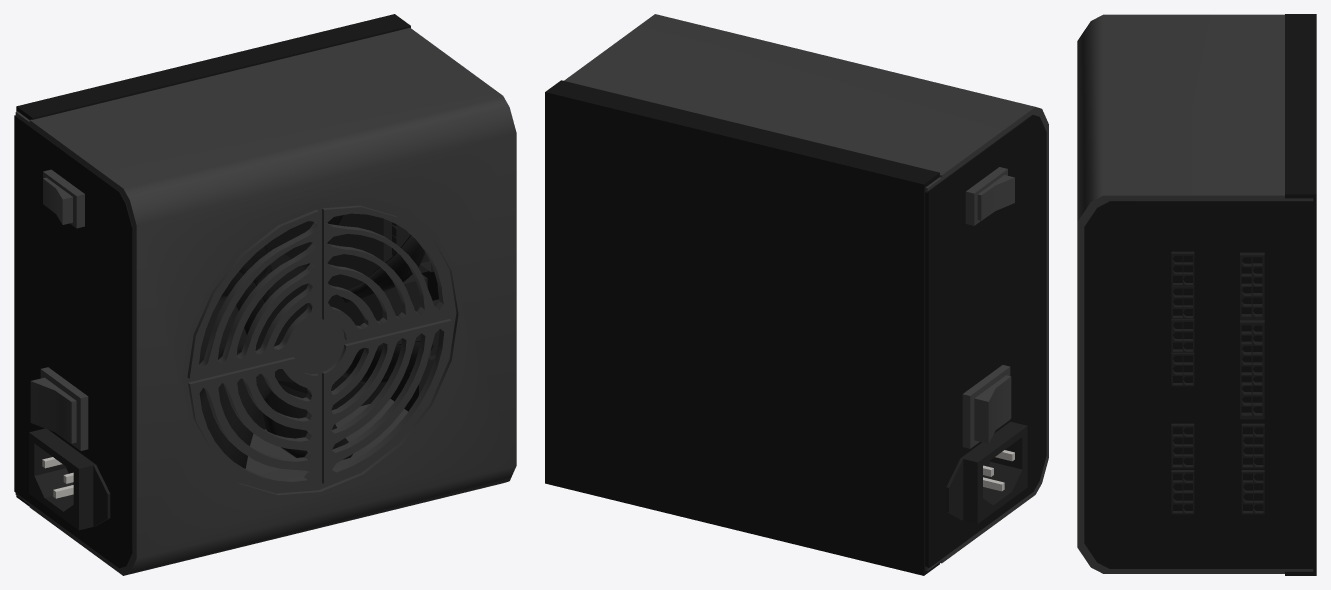
The model's file is psu.glb.
3 renders of one model, left to right at view 1: azimuth 30°, elevation 25°; view 2: azimuth 150°, elevation 25°; view 3: azimuth 270°, elevation 25°, orthographic. The views are drawn at different scales.
Parts seen in each view (by area): view 1: pCube1252_BasePLasticM_0; view 2: pCube1252_BasePLasticM_0; view 3: pCube1252_BasePLasticM_0.
Boxes of the visible parts, x1,y1,x2,y2 form: pCube1252_BasePLasticM_0: [14, 14, 516, 575]; pCube1252_BasePLasticM_0: [545, 14, 1048, 575]; pCube1252_BasePLasticM_0: [1077, 14, 1316, 575].
Size of the model in its own units: 174308 by 158921 by 90240.
Materials: 1 (1 with a texture image).
